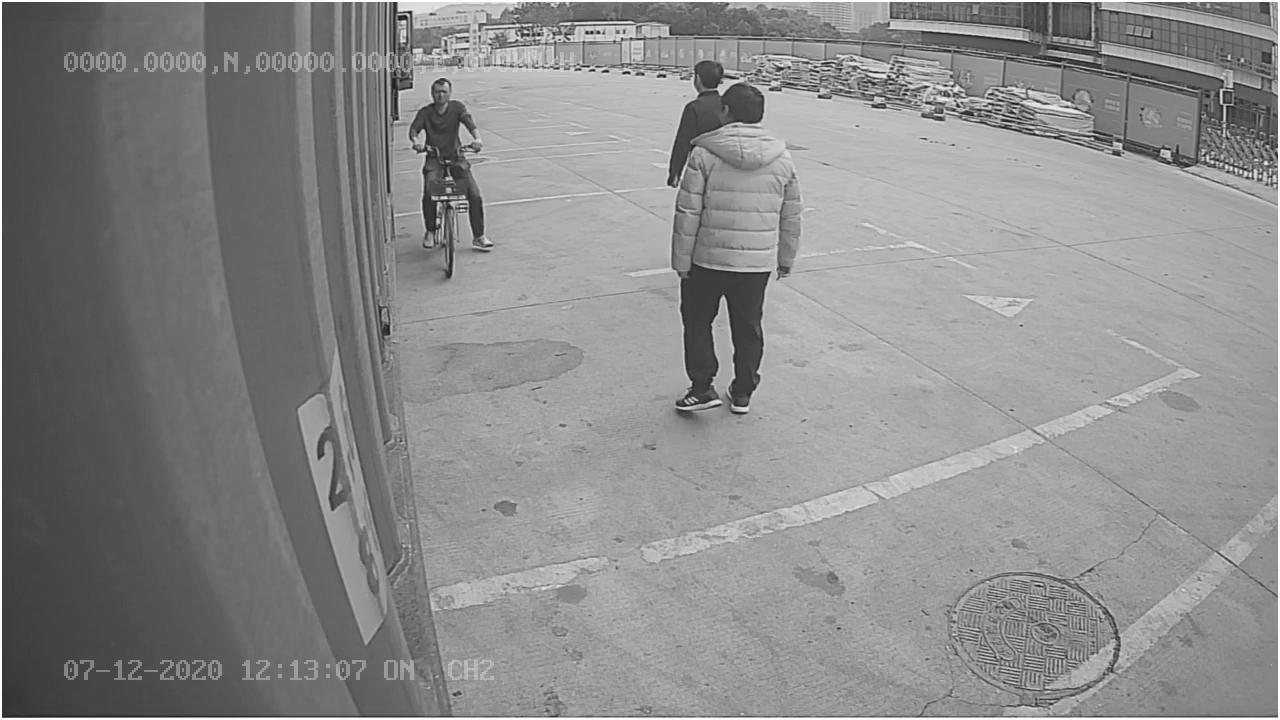person: (669, 80, 805, 419)
